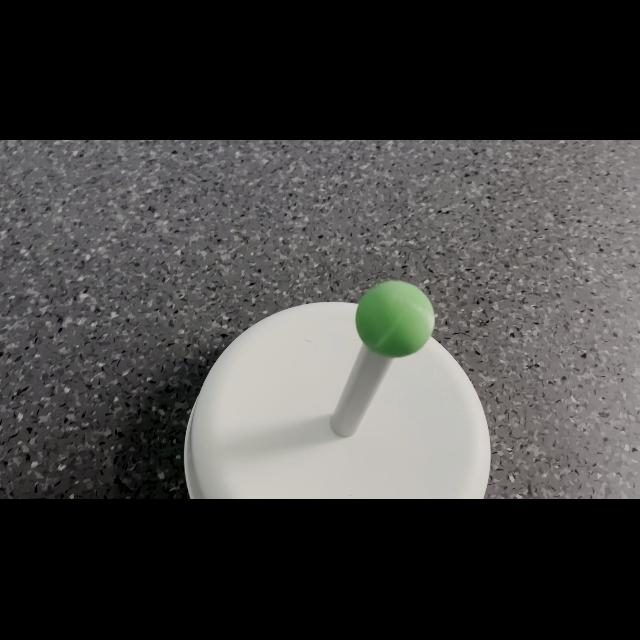objects: (352, 274, 438, 360)
